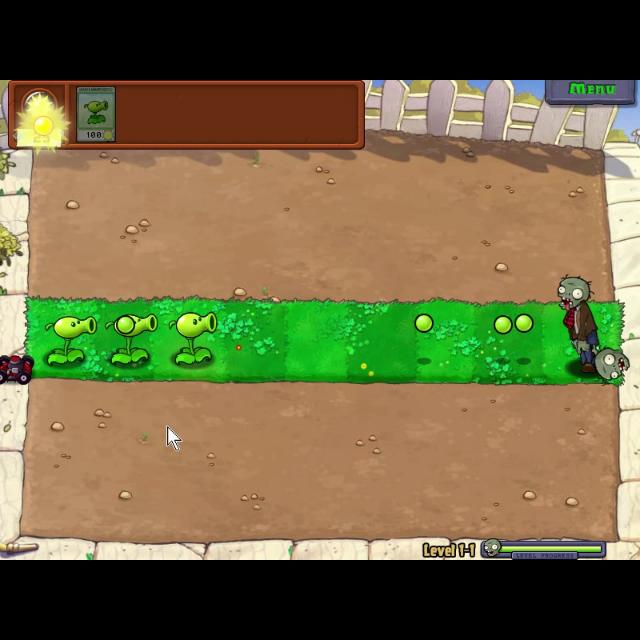Garden: (22, 292, 630, 390)
Menu Button: (544, 80, 638, 106)
Mower: (0, 350, 38, 388)
Peashooter: (74, 82, 118, 144)
Peashooter Seed: (40, 311, 99, 371), (104, 312, 160, 370), (168, 312, 222, 366)
Seed Panel: (6, 80, 368, 152)
Zombie: (552, 270, 612, 376)
